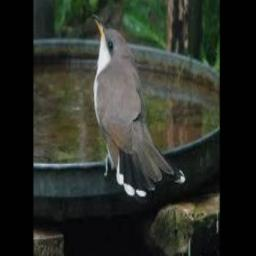Cuckoo: (90, 13, 185, 196)
